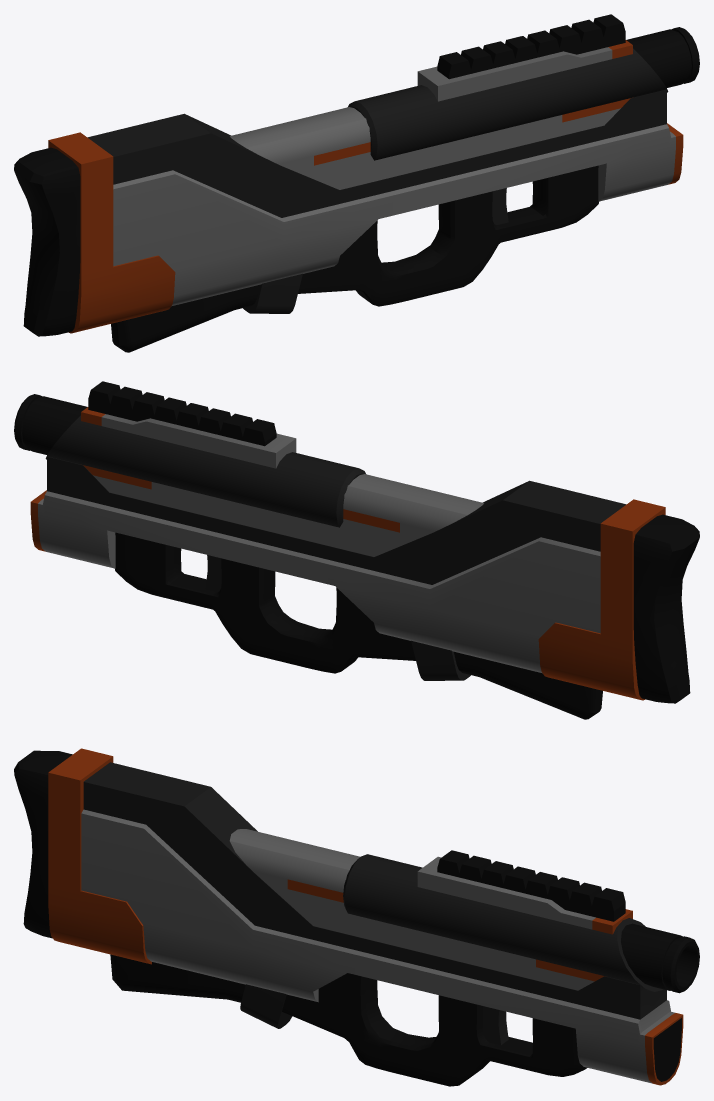
Rendered from Grenade_3.obj.
3 renders of one model, top to bottom at view 1: azimuth 30°, elevation 25°; view 2: azimuth 150°, elevation 25°; view 3: azimuth 330°, elevation 25°, orthographic.
Parts seen in each view (by area): view 1: Grenade_3_Cube.131; view 2: Grenade_3_Cube.131; view 3: Grenade_3_Cube.131.
Part boxes in pixels (box(x1,y1,x2,y2)): Grenade_3_Cube.131: box(14, 14, 699, 352); Grenade_3_Cube.131: box(14, 381, 699, 719); Grenade_3_Cube.131: box(14, 748, 699, 1086).
Size of the model in its own units: 1.69 by 0.5475 by 0.1459.
